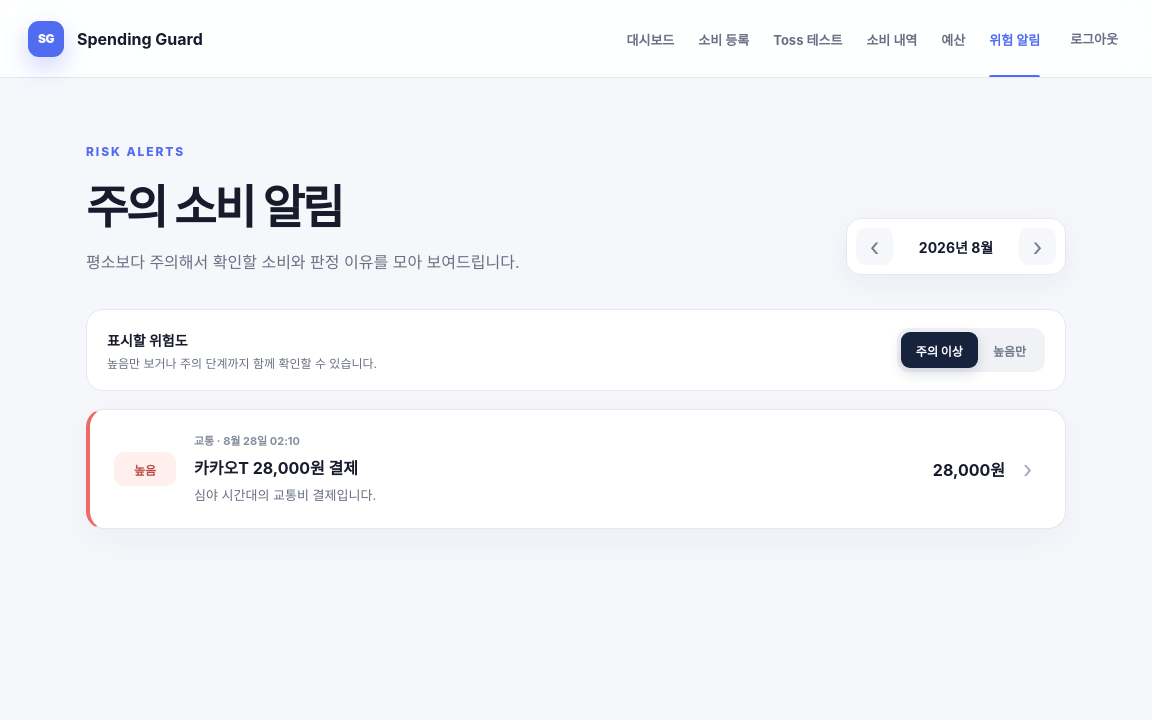
Test: RiskAlertFeed › moves to the previous month without keeping the old result
Expected: the text "카카오T 28,000원 결제" is shown, [194,458,358,478]
Click the button named "이전 달" at (874,247), box [856,228,893,265]
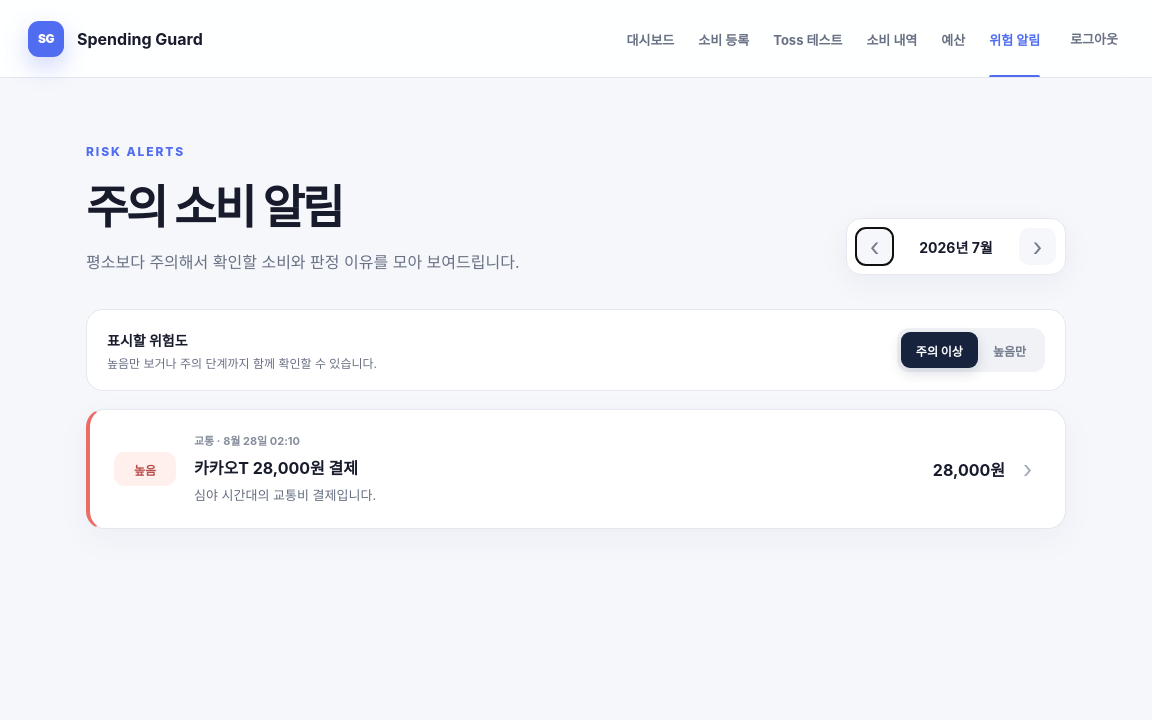
Expected: the text "2026년 7월" is shown, [919,237,993,257]
